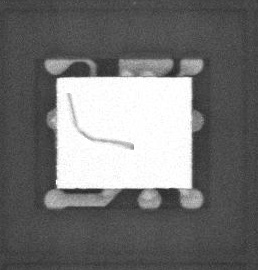DIE_INK: (61, 97, 127, 156)
